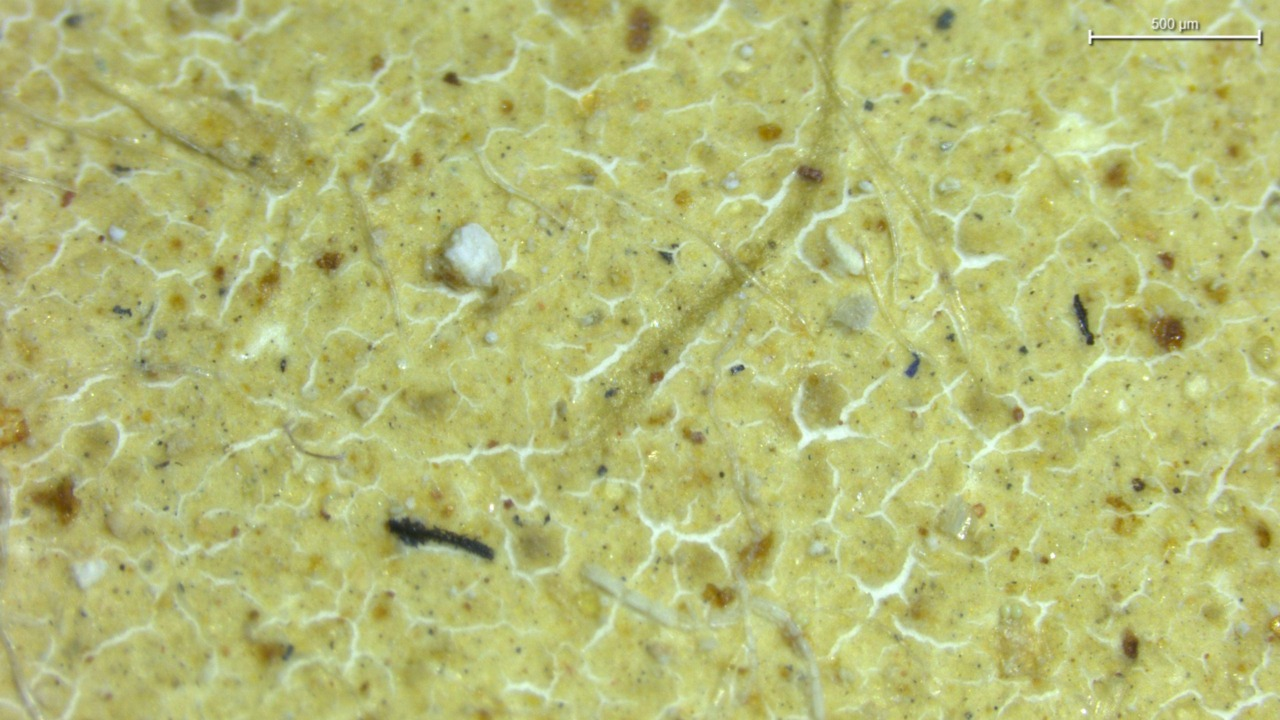microplastic_fragment: (444, 223, 502, 287), (827, 228, 865, 275), (829, 293, 876, 330), (71, 558, 107, 590)
